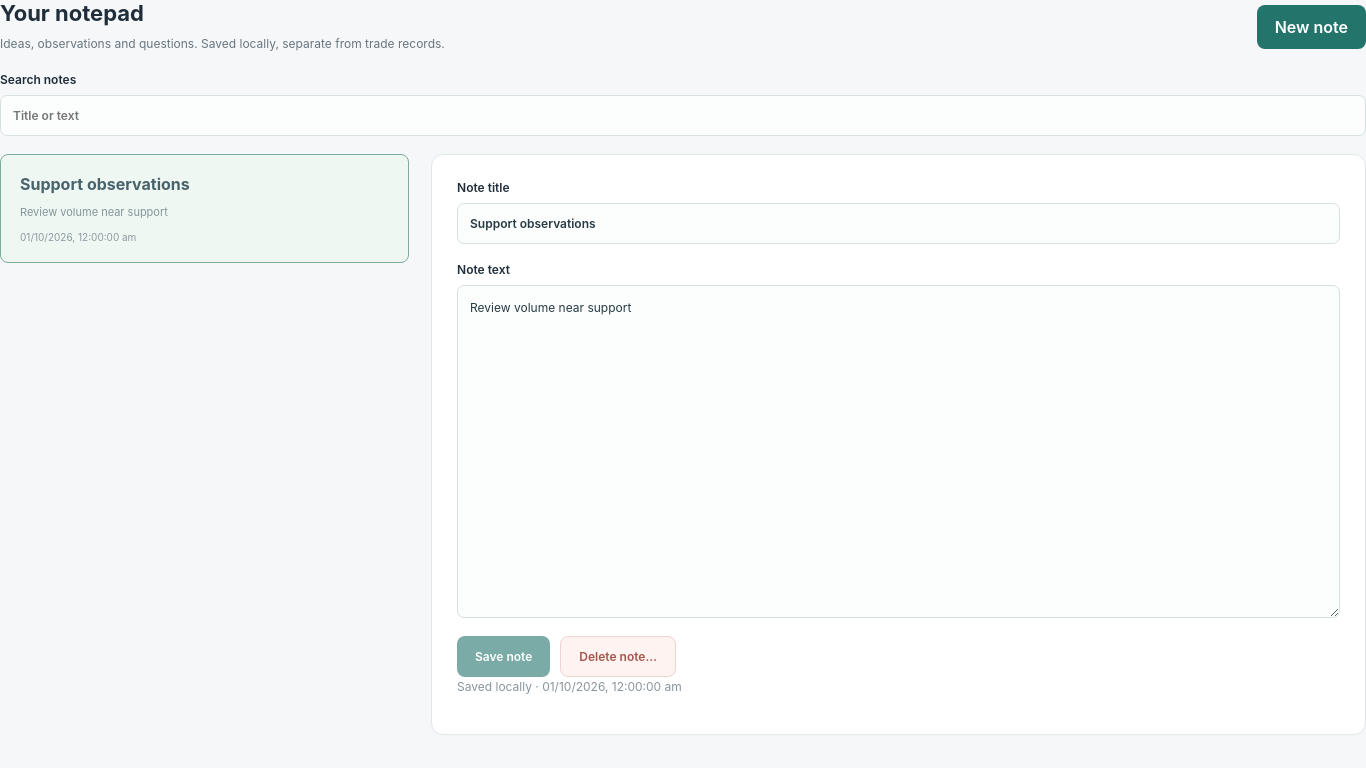
it: local notepad › requires an explicit delete confirmation and permits cancellation
Step 1. Click the button "Delete note…" → point(618, 656), box x1=560 y1=636 x2=676 y2=677
(page scrolled)
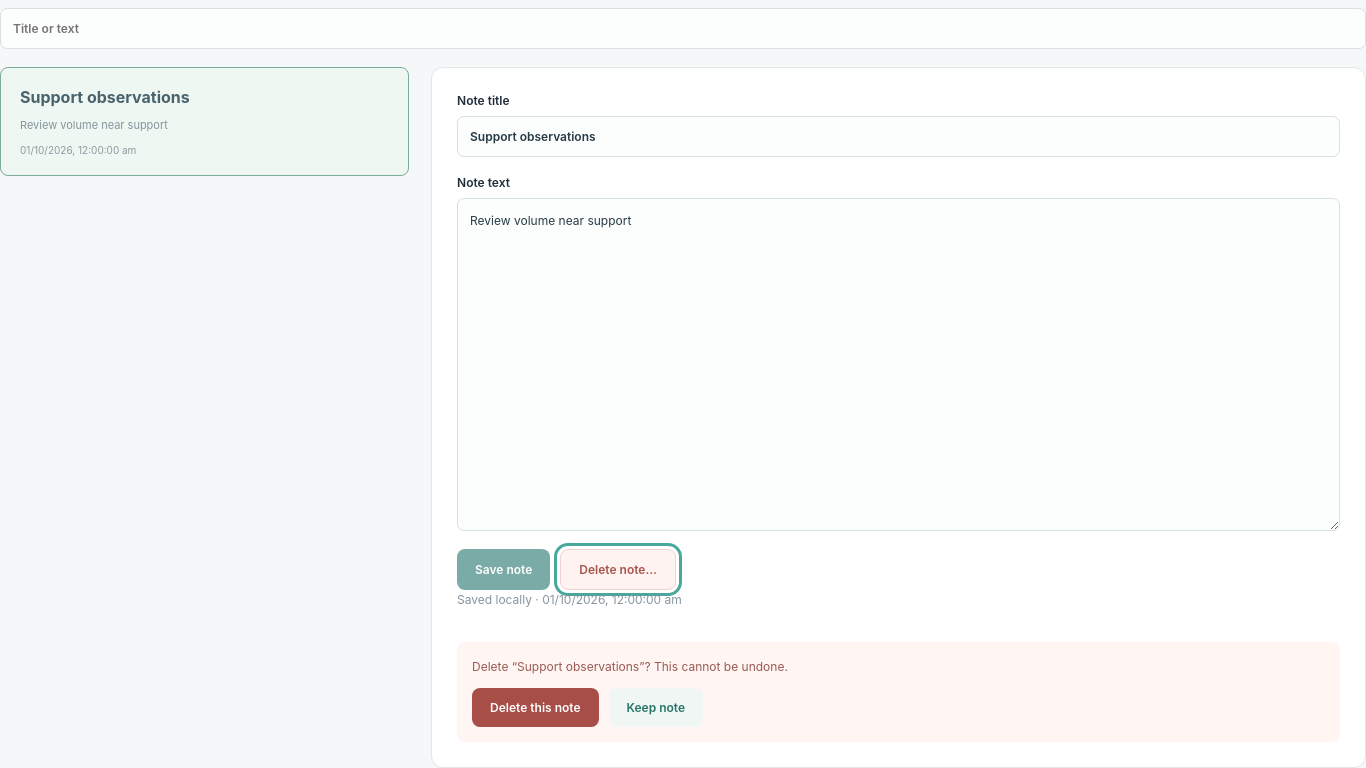
Step 2. Click the button "Keep note" → point(656, 708), box x1=608 y1=688 x2=703 y2=727
(page scrolled)
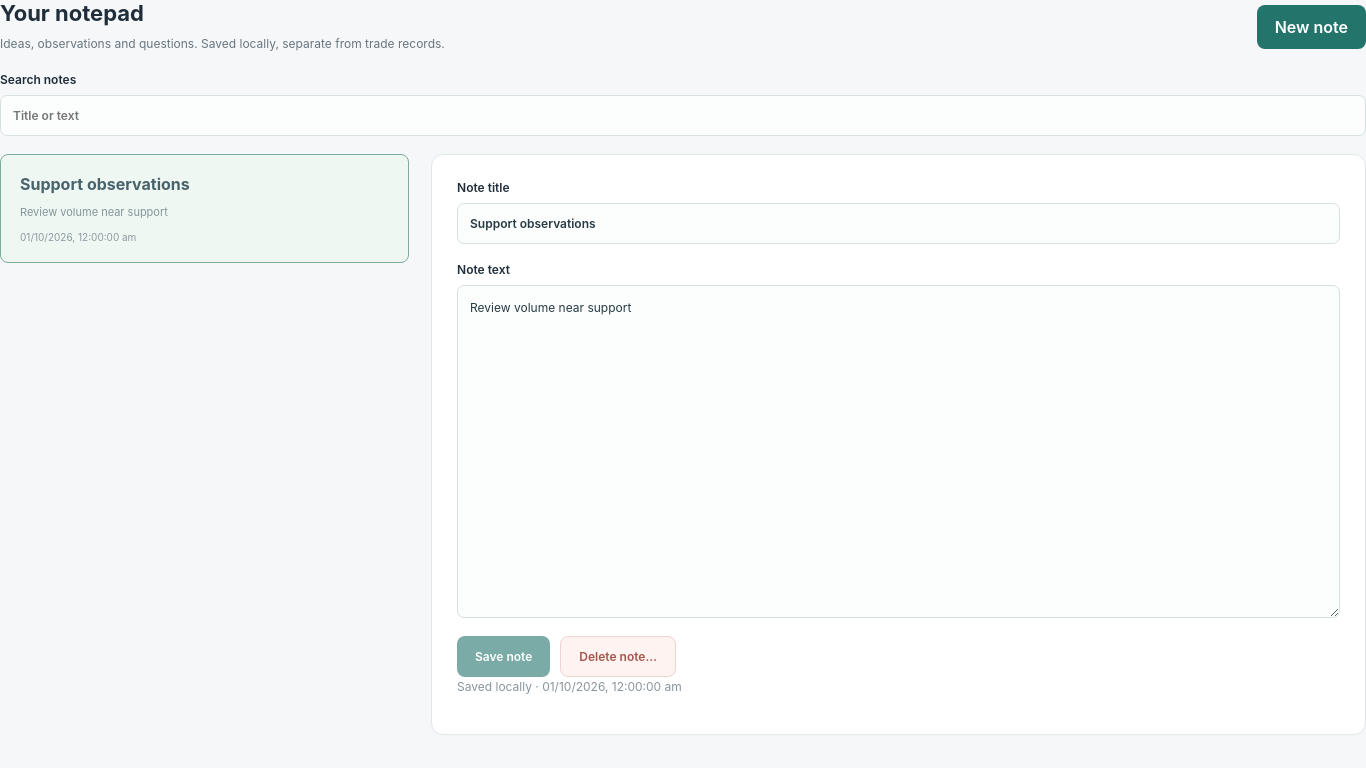
Step 3. Click the button "Delete note…" → point(618, 656), box x1=560 y1=636 x2=676 y2=677
(page scrolled)
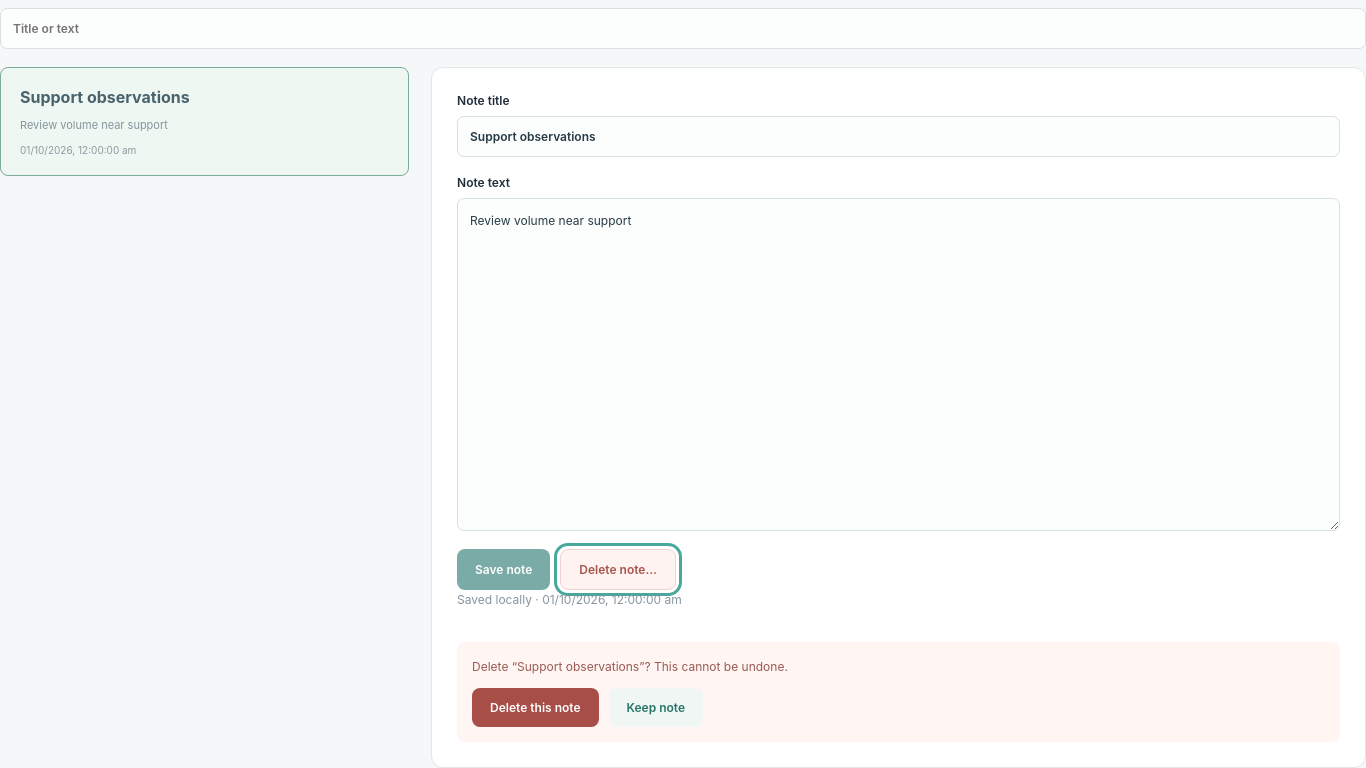
Step 4. Click the button "Delete this note" → point(535, 708), box x1=472 y1=688 x2=598 y2=727
(page scrolled)
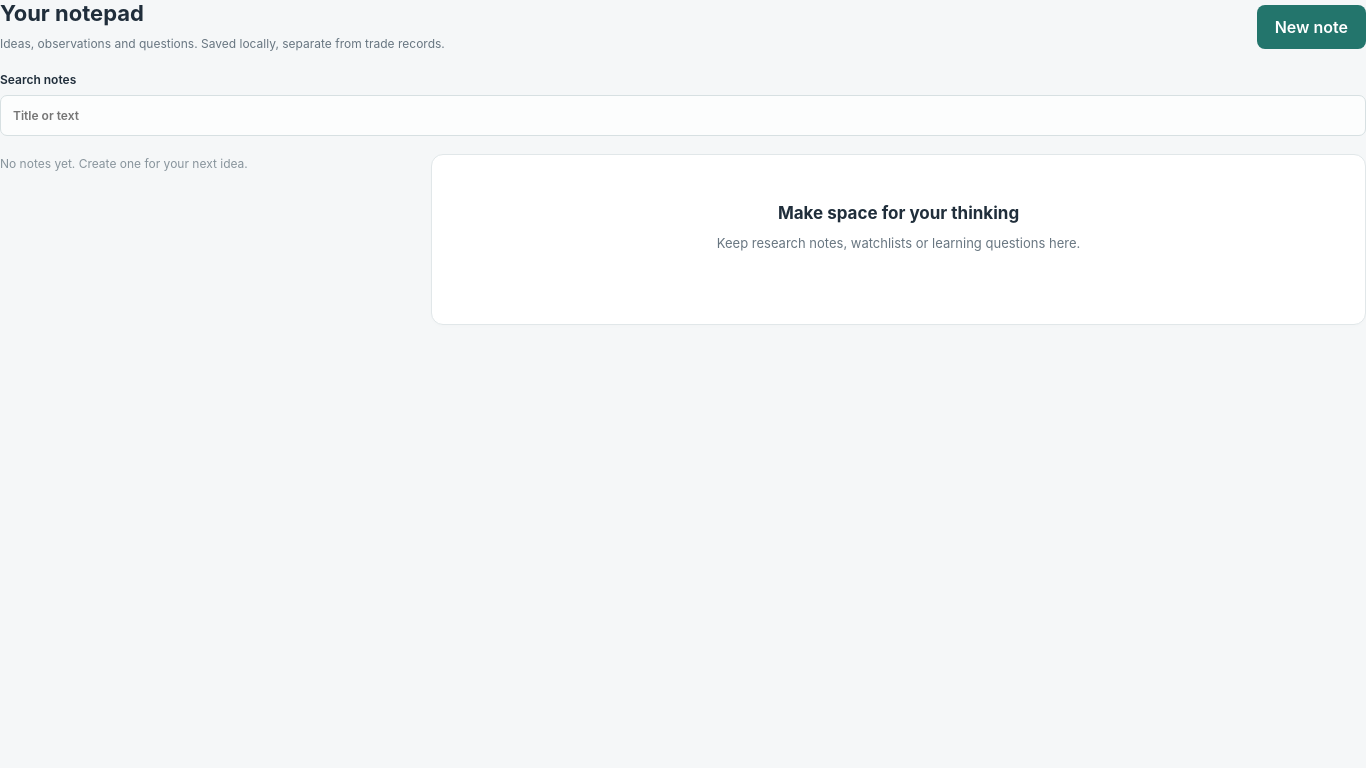
Now the heading "Make space for your thinking" is shown, box x1=778 y1=203 x2=1019 y2=223
